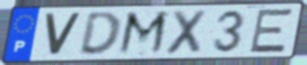3: (211, 8, 248, 55)
D: (77, 10, 123, 58)
E: (247, 7, 296, 55)
M: (115, 10, 172, 57)
V: (42, 12, 84, 59)
X: (163, 8, 210, 57)
